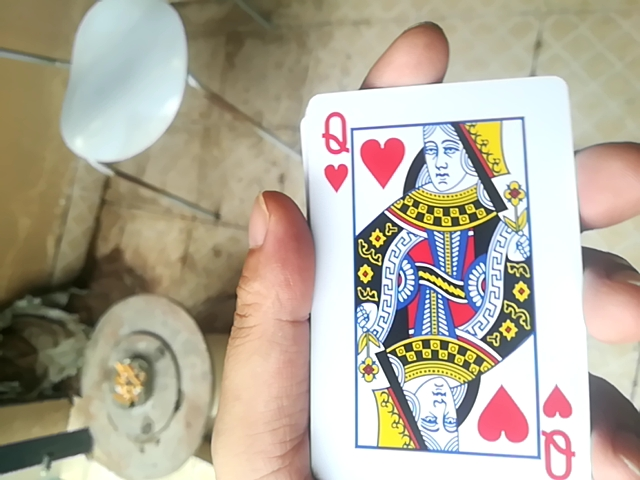hx q: (310, 77, 599, 480)
